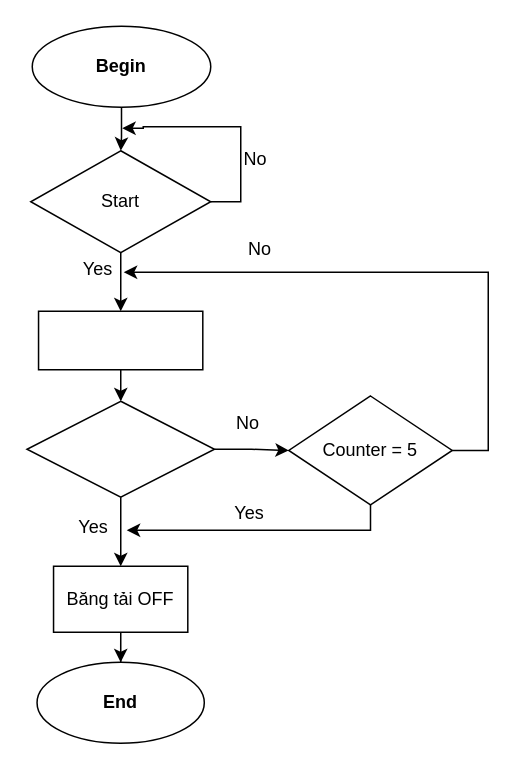
Image size: 527x770. Some labels were removed from this diagram. The shapes that lost their labels are listed below. From the top down, each one's centre as x and y in pixels, then its label:
the point at 120,340: Băng tải ON
the point at 120,448: Stop
